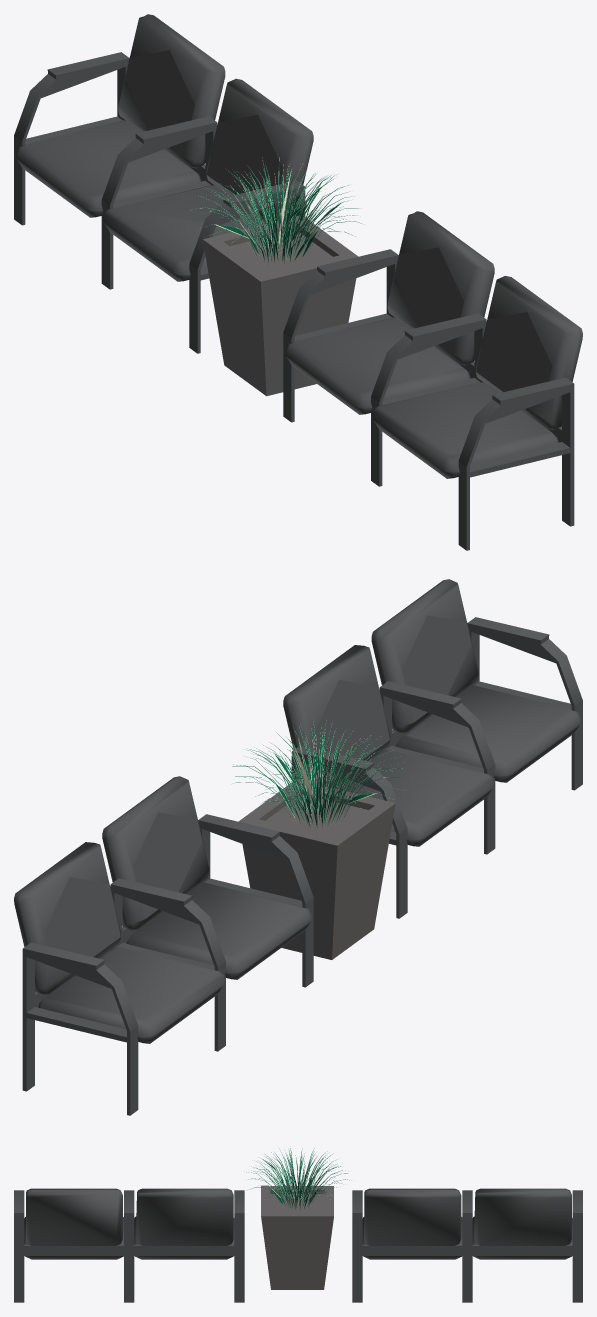
The model's file is waiting-chairs.lod0.glb.
3 views of the same model, one above another, from view 1: azimuth 30°, elevation 25°; view 2: azimuth 150°, elevation 25°; view 3: azimuth 270°, elevation 25° (orthographic). The views are drawn at different scales.
Parts seen in each view (by area): view 1: Box001_01 - Default_0, Foliage001_Fronds_0; view 2: Box001_01 - Default_0, Foliage001_Fronds_0; view 3: Box001_01 - Default_0, Foliage001_Fronds_0.
Part boxes in pixels (box(x1,y1,x2,y2)): Box001_01 - Default_0: box(14, 14, 582, 550); Foliage001_Fronds_0: box(190, 157, 362, 265); Box001_01 - Default_0: box(14, 579, 582, 1115); Foliage001_Fronds_0: box(232, 720, 402, 829); Box001_01 - Default_0: box(14, 1186, 582, 1302); Foliage001_Fronds_0: box(246, 1146, 351, 1210).
Size of the model in its own units: 0.3928 by 0.4674 by 1.8.
2 materials, 1 textured.
